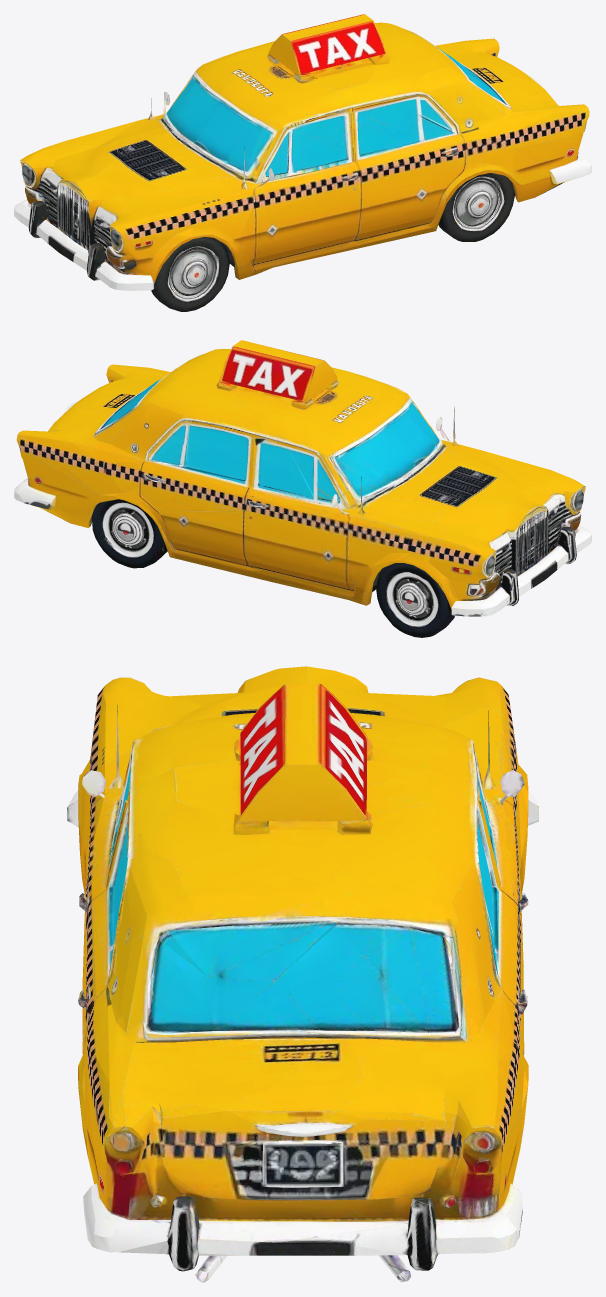
The model's file is traffic-taxi.glb.
The picture shows the model from 3 angles, top to bottom: view 1: azimuth 30°, elevation 25°; view 2: azimuth 150°, elevation 25°; view 3: azimuth 270°, elevation 25°; orthographic projection. The views are drawn at different scales.
Bounding box in the file's own units: 1.9 × 0.7526 × 0.794.
Materials: 1 (1 with a texture image).
